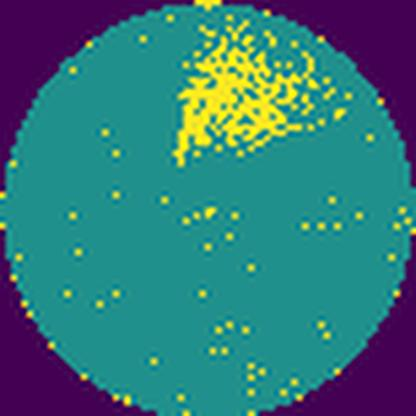Loc: (171, 20, 335, 170)
